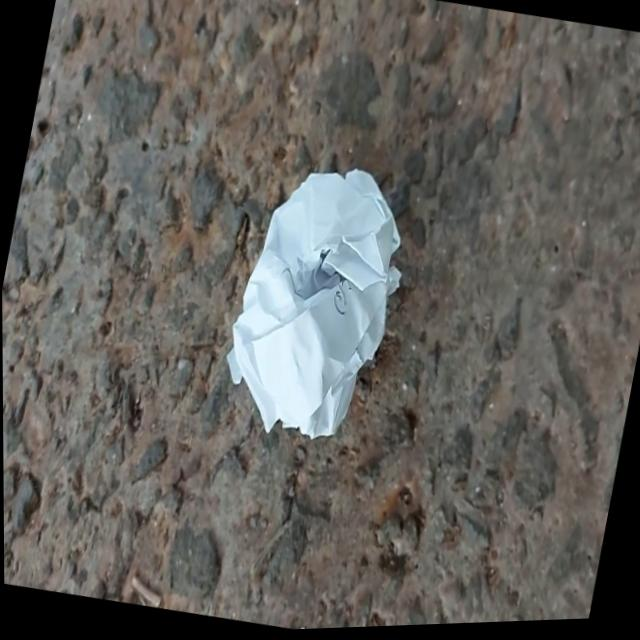paper: (227, 170, 399, 437)
